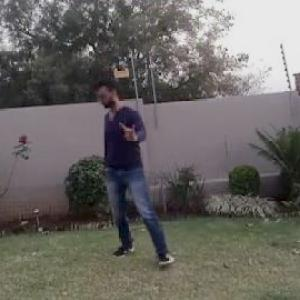takeoff-hand: (113, 116, 146, 146)
